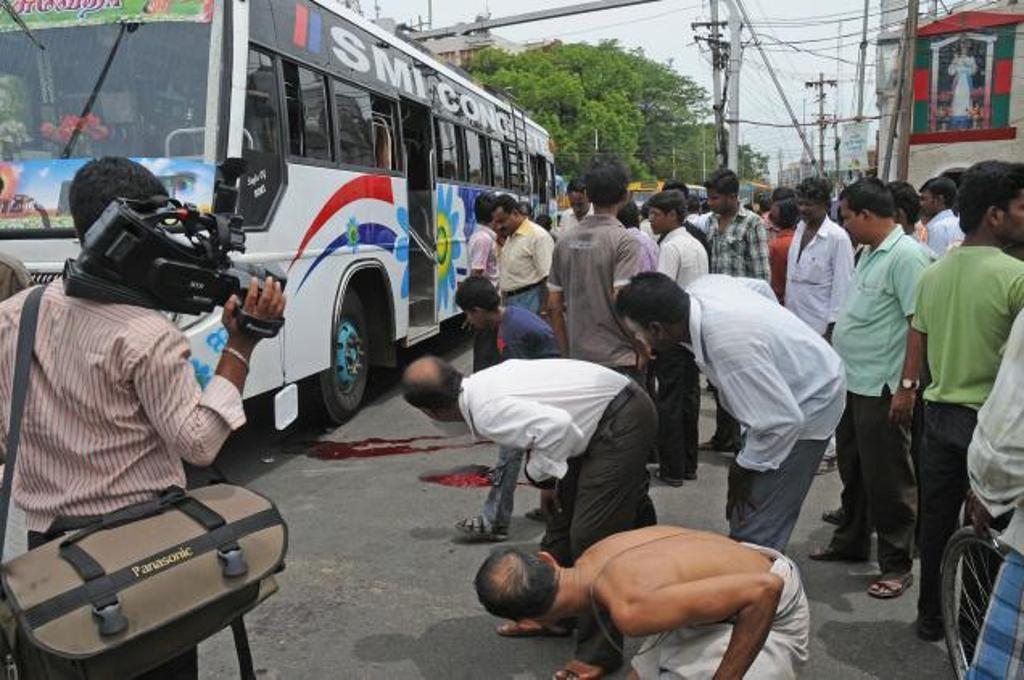face: (627, 320, 673, 353), (999, 185, 1024, 243), (842, 202, 869, 243), (799, 196, 822, 225), (707, 189, 732, 215), (650, 208, 670, 235), (494, 211, 515, 235), (463, 307, 485, 329), (569, 195, 589, 217), (921, 192, 939, 216)
